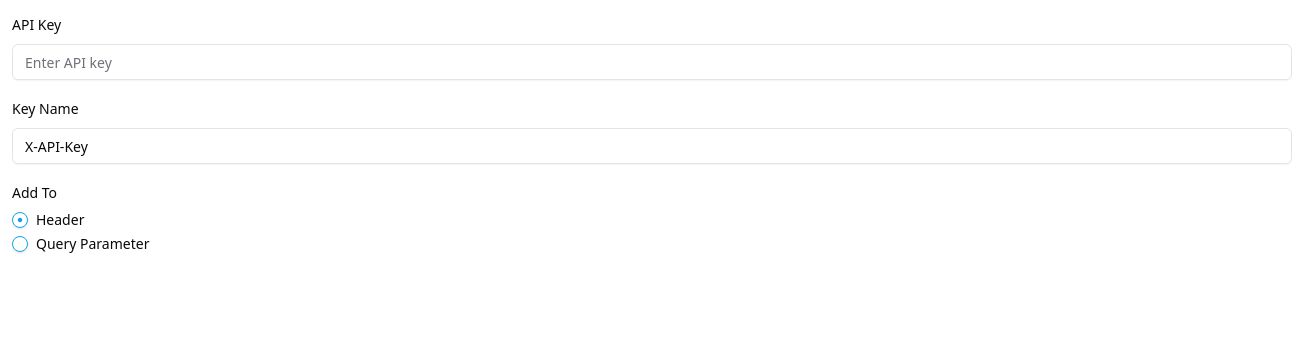
Test: APIKeyAuth › should show clear button when API key is entered
The image size is (1304, 363).
Type "test-key" into the field with placeholder "Enter API key" at point(652, 62), box [12,44,1292,80]
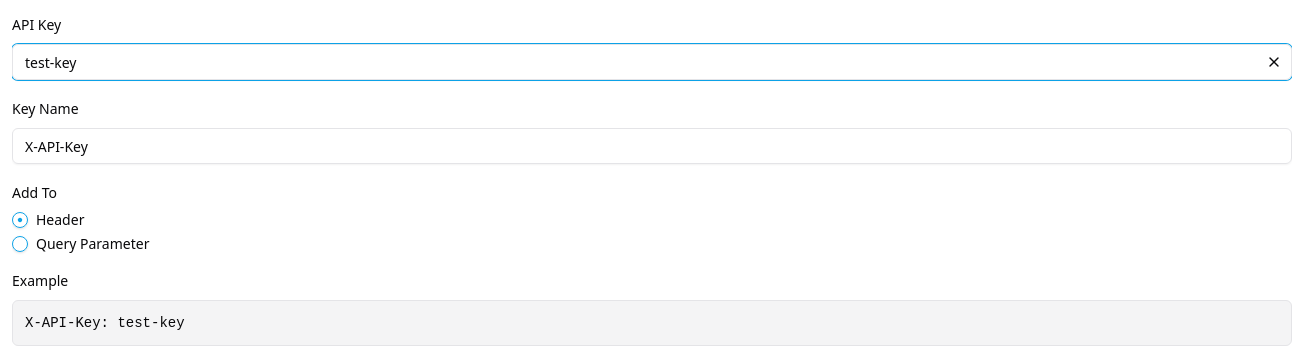
Expected: the button named "clear" is shown, [1260,48,1288,76]
